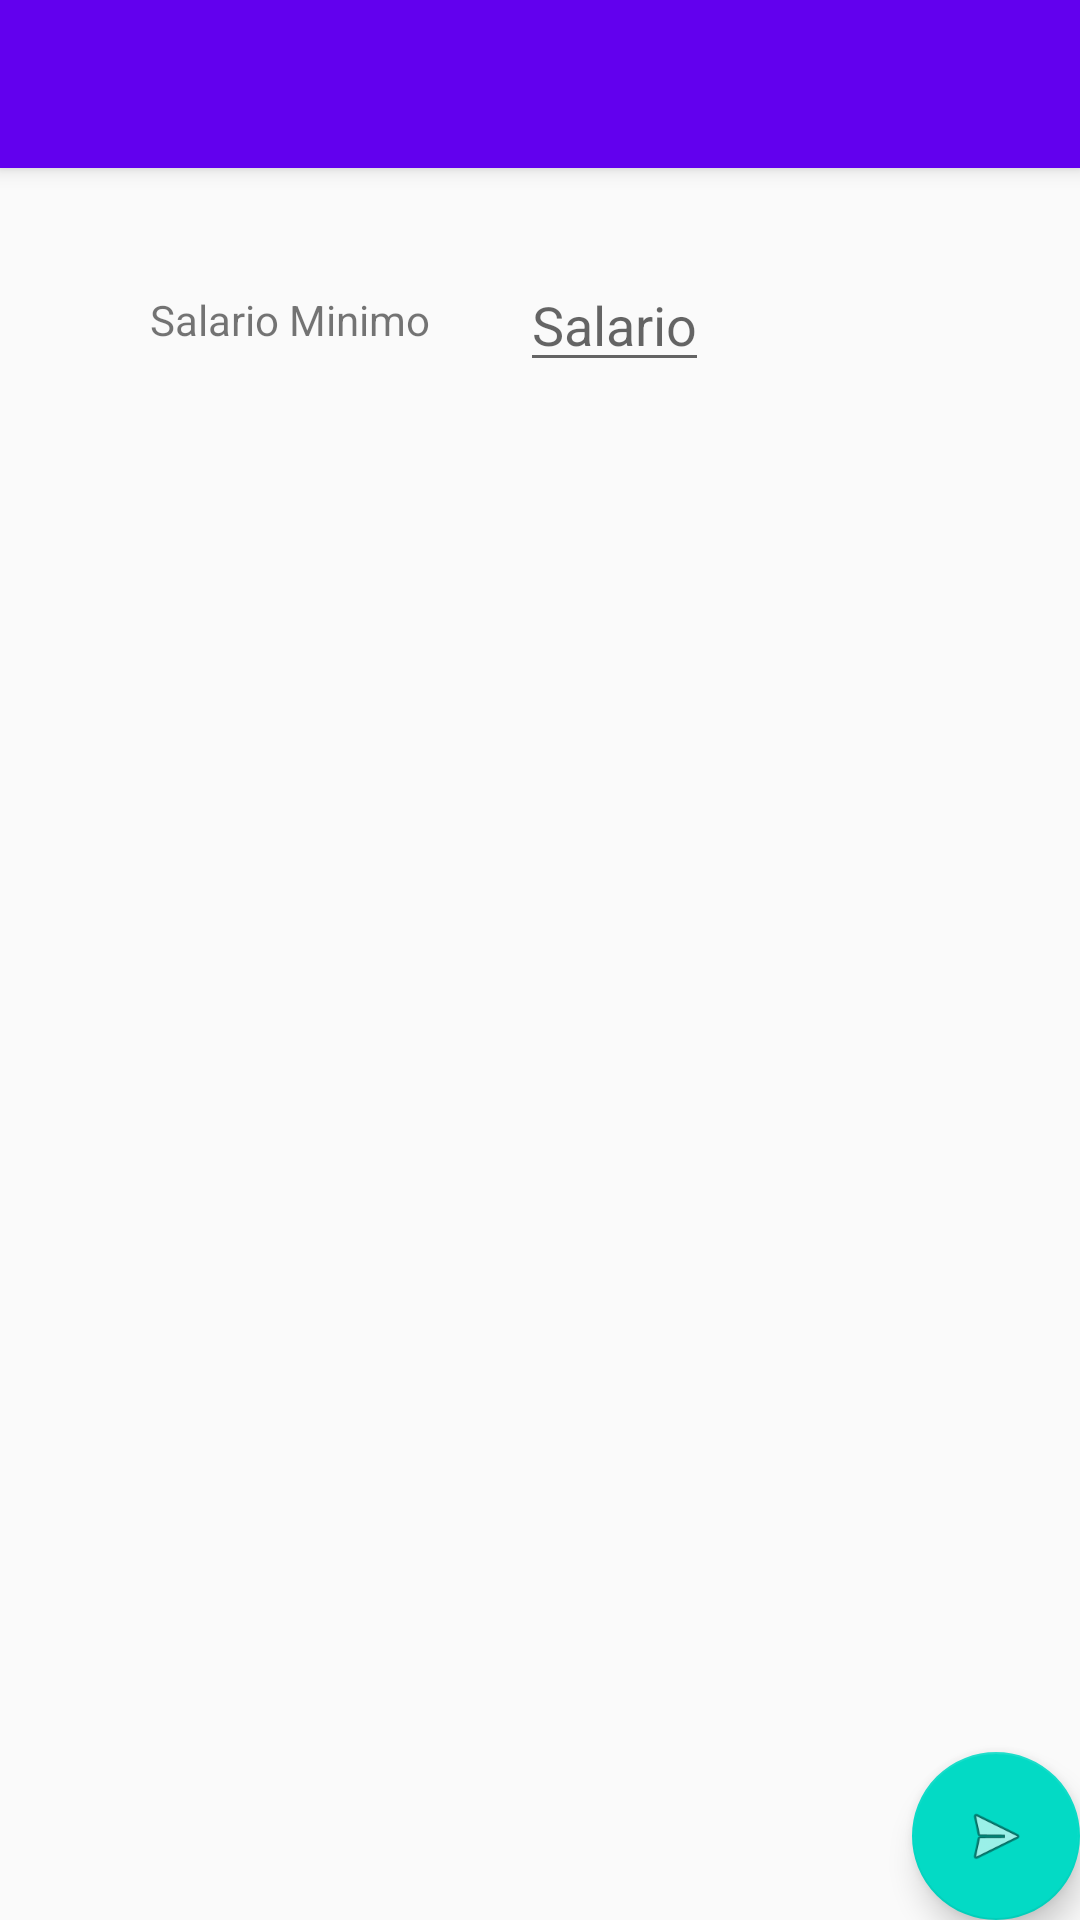

Icon bounding boxes for this 1080px x 1920px phone screenshot, format (x1, y1, x2, y2):
send: (912, 1752, 1080, 1920)
